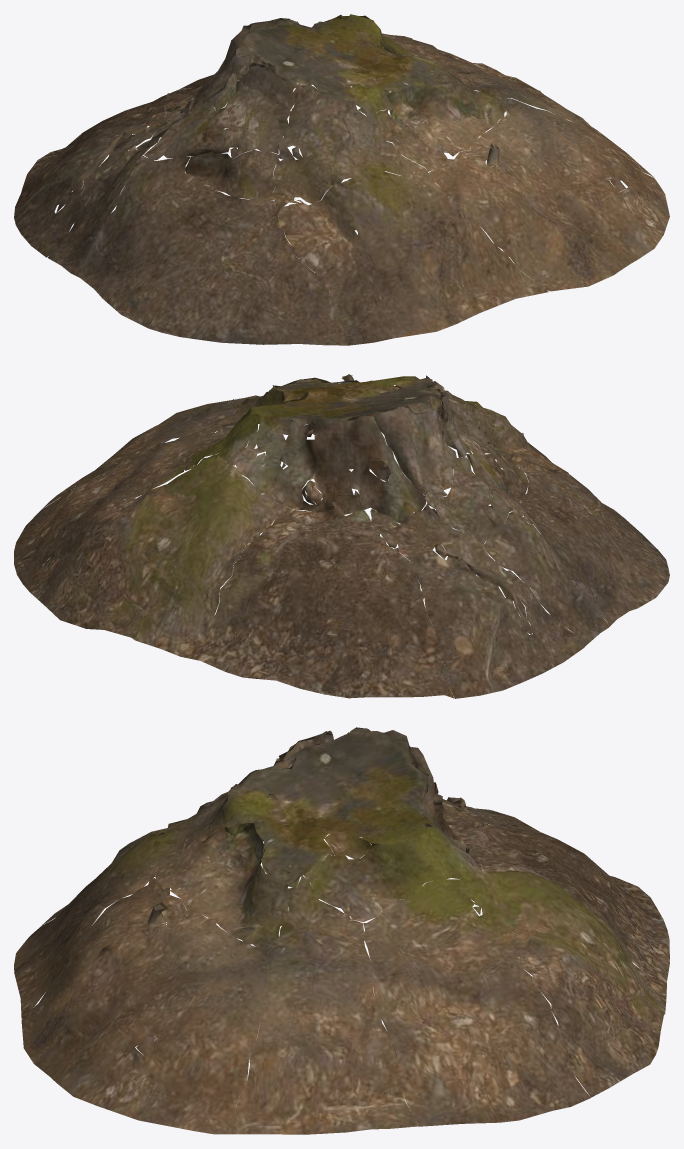
File: stump_split.glb
3 renders of one model, top to bottom at view 1: azimuth 30°, elevation 25°; view 2: azimuth 150°, elevation 25°; view 3: azimuth 270°, elevation 25°, orthographic. The views are drawn at different scales.
Visible parts, largest first — view 1: tree_stump_02; view 2: tree_stump_02; view 3: tree_stump_02.
Boxes of the visible parts, box(x1,y1,x2,y2) form: tree_stump_02: box(14, 14, 669, 345); tree_stump_02: box(14, 374, 669, 698); tree_stump_02: box(14, 727, 669, 1134).
Bounding box in the file's own units: 1.52 × 0.5201 × 1.39.
1 material, 1 textured.
